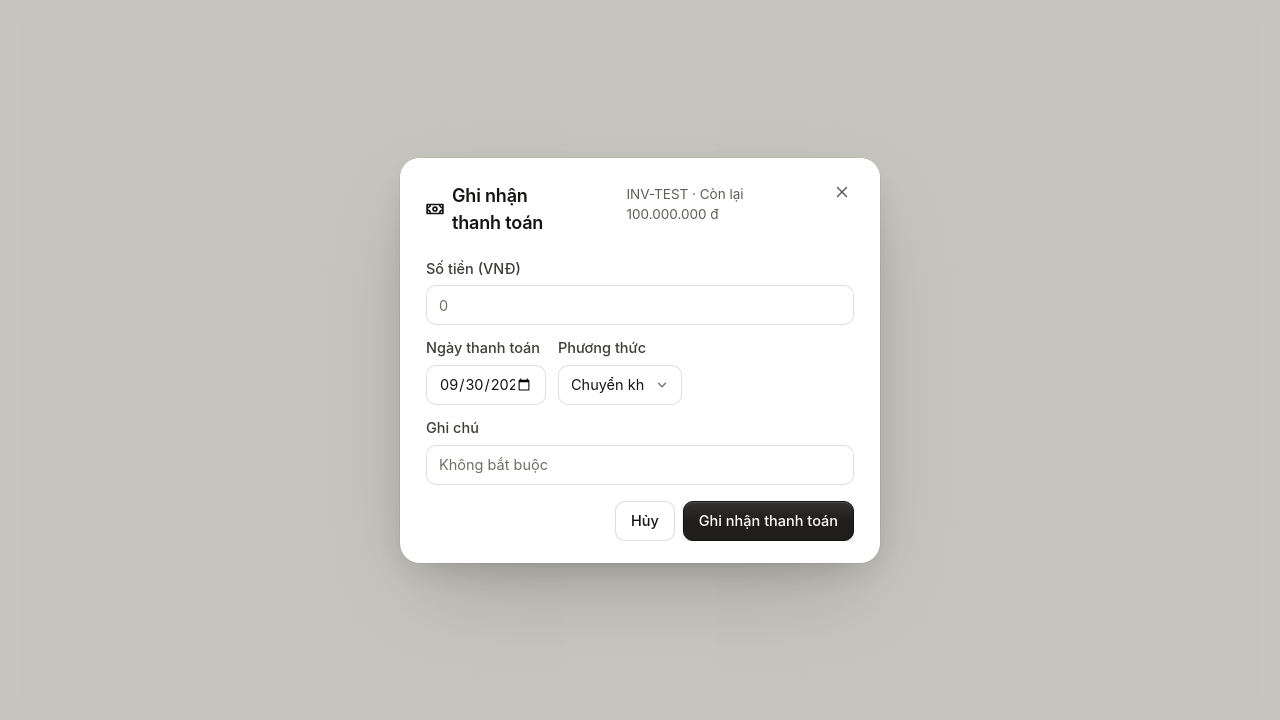
PaymentFormModal (NCL-10-CN-003 — Ghi nhận thanh toán của khách hàng) › không cho lưu khi số tiền vượt quá số còn lại
The width and height of the screenshot is (1280, 720).
Type "200000000" into the field labelled "Số tiền (VNĐ)" at (640, 305), box [426, 285, 854, 325]
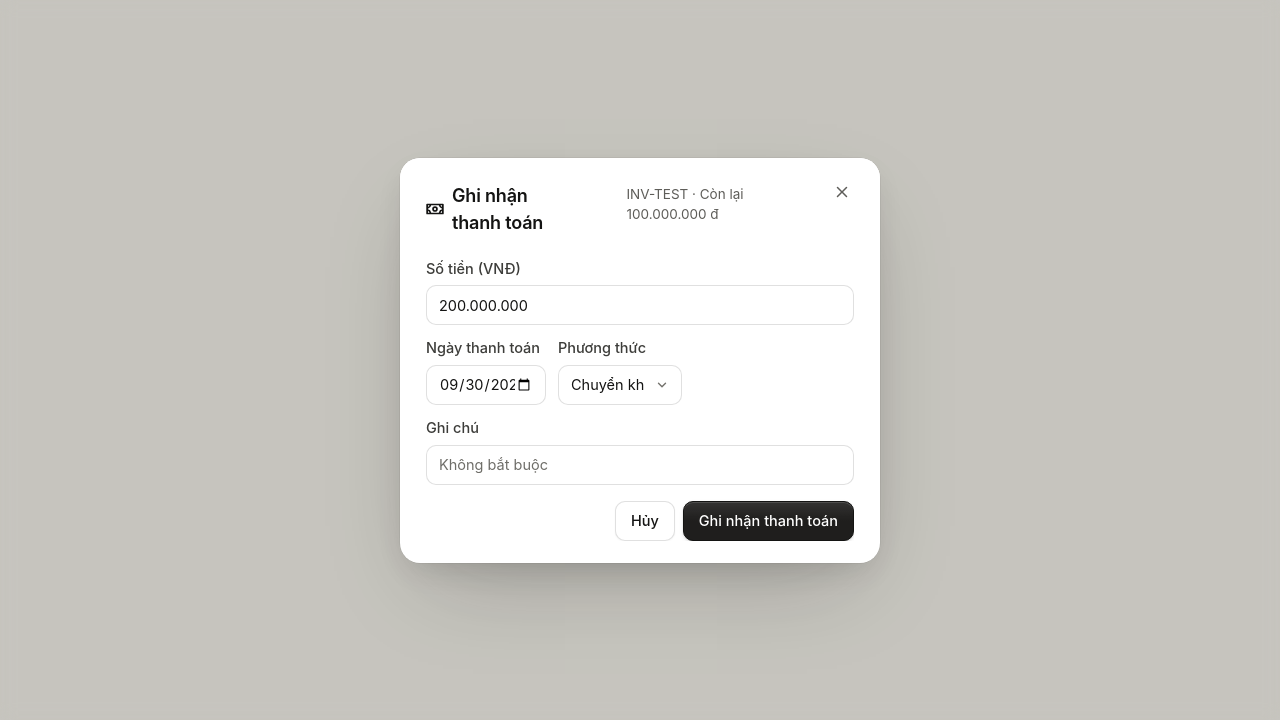
Click the button "Ghi nhận thanh toán" at (768, 521), box [683, 501, 854, 541]
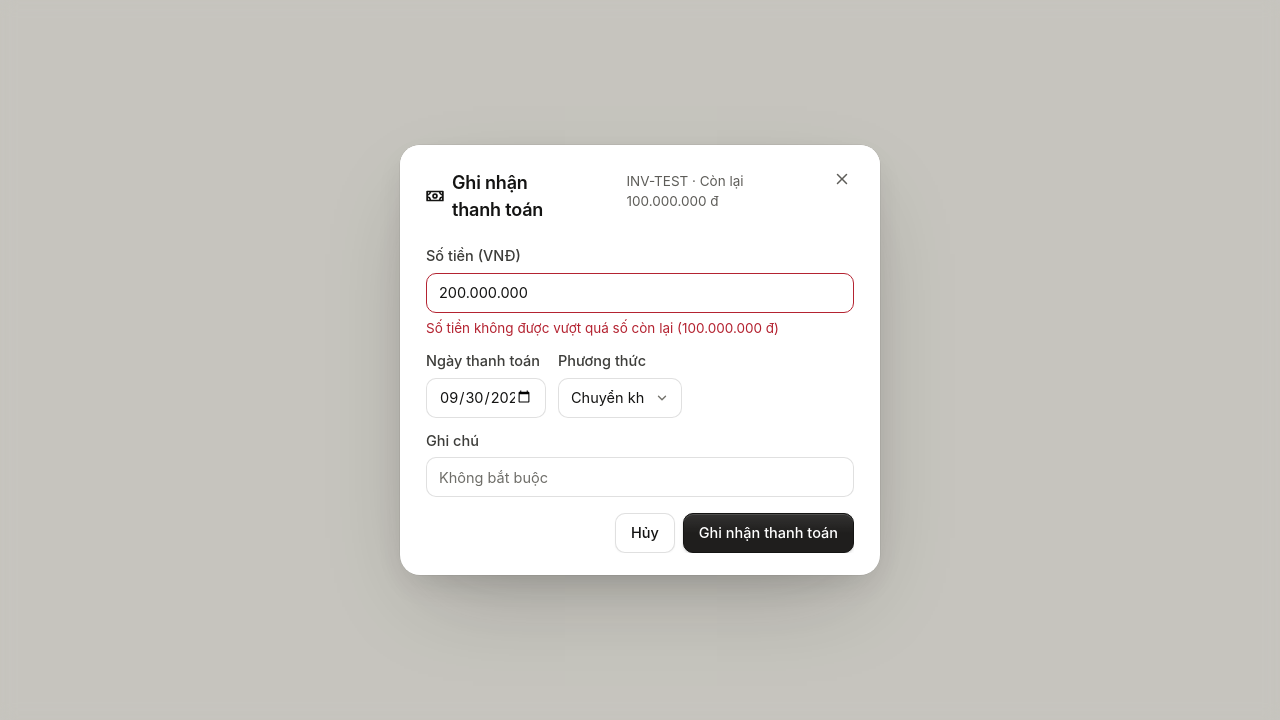
Result: the text "Số tiền không được vượt quá số còn lại (100.000.000 đ)" is shown at [426, 320, 779, 336]
